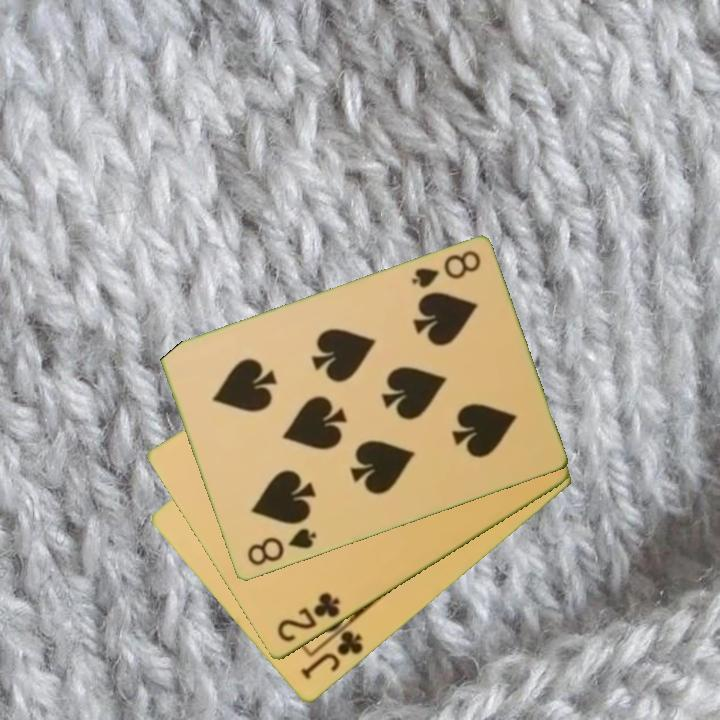2c: (273, 589, 343, 646)
8s: (408, 247, 484, 292), (243, 525, 320, 569)
Jc: (297, 627, 366, 683)
